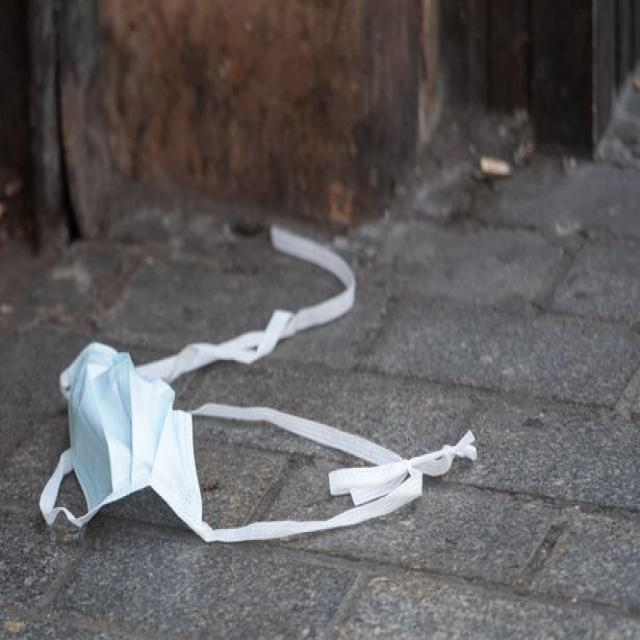face mask: (35, 212, 434, 556)
